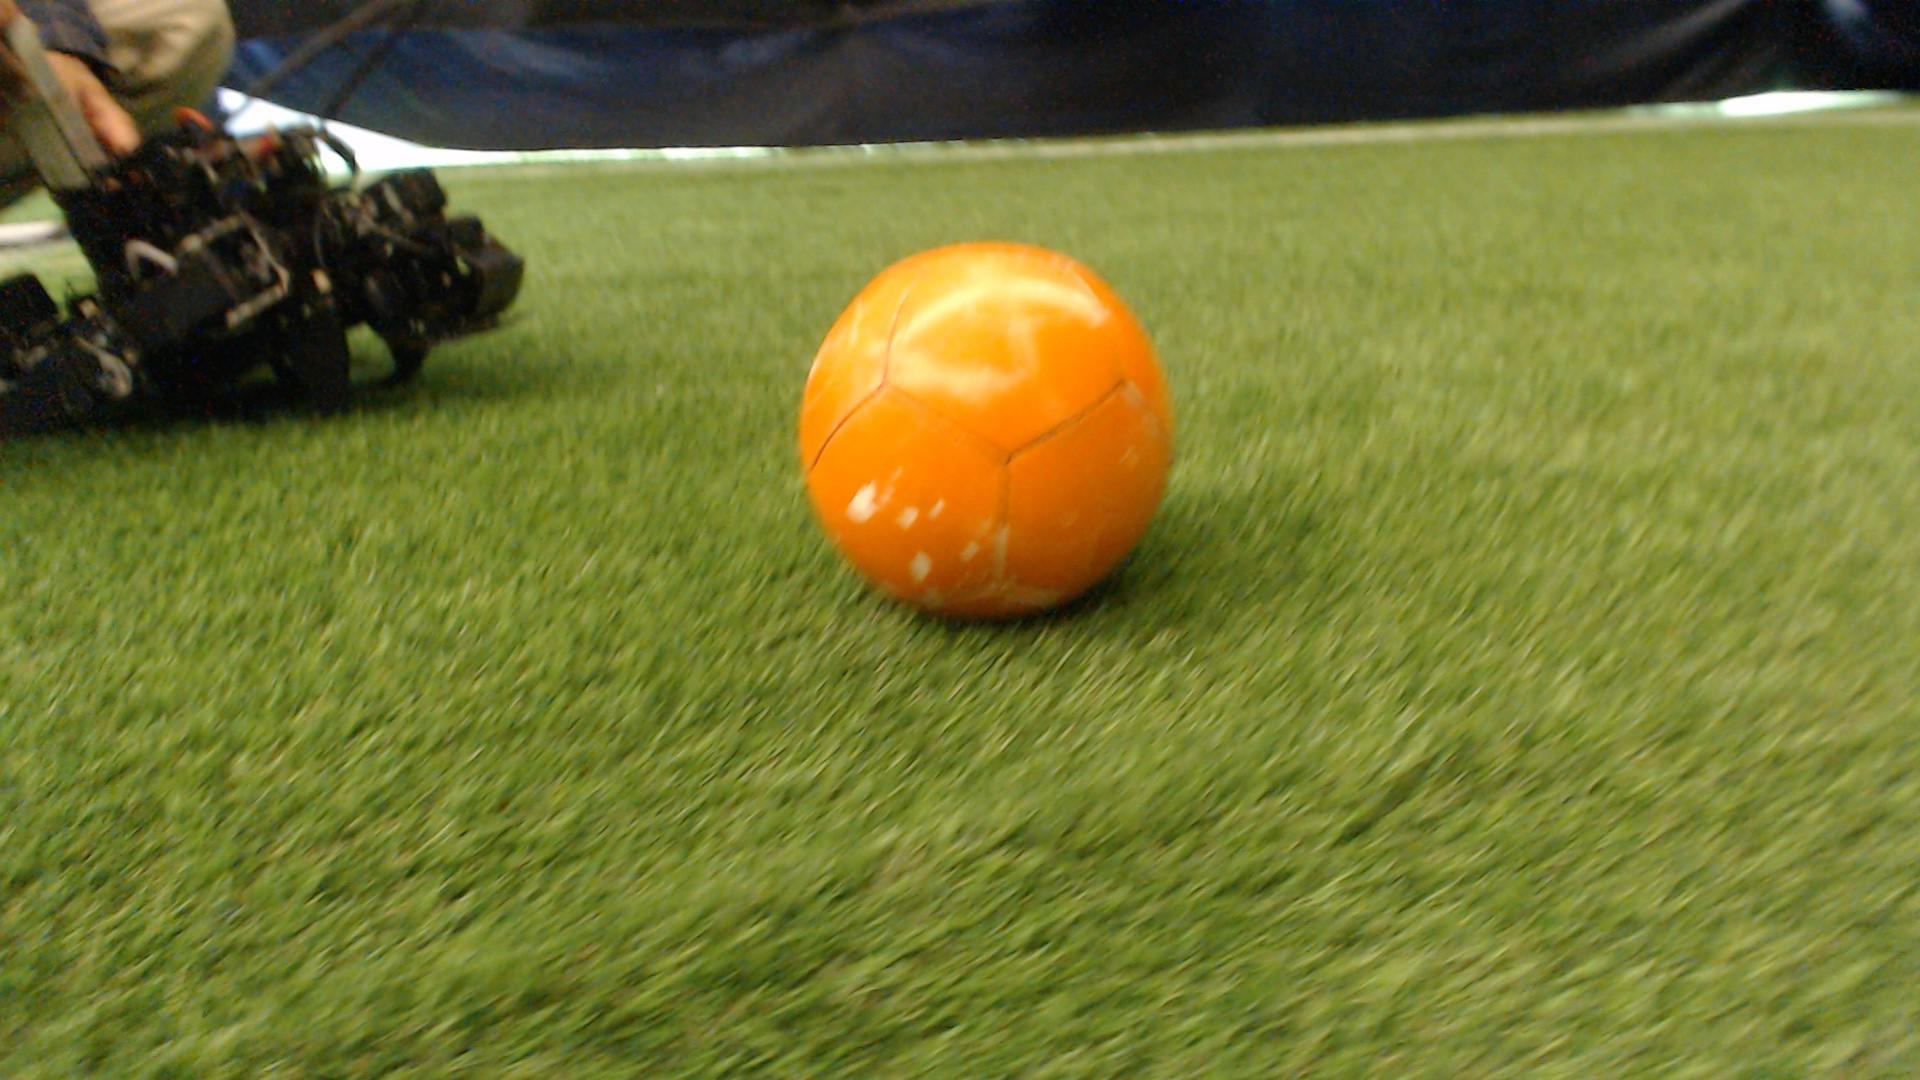bola: (781, 212, 1215, 659)
